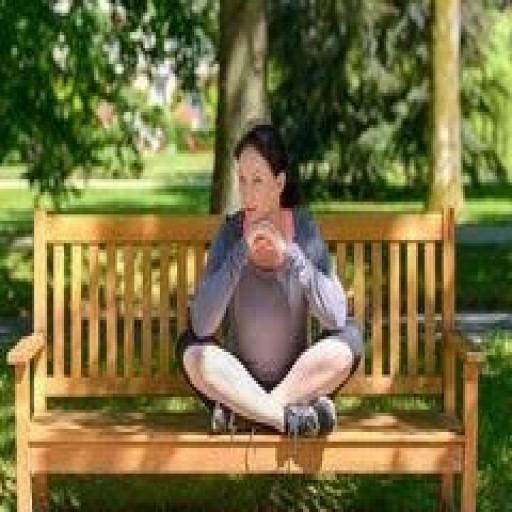sitting: (173, 118, 365, 442)
